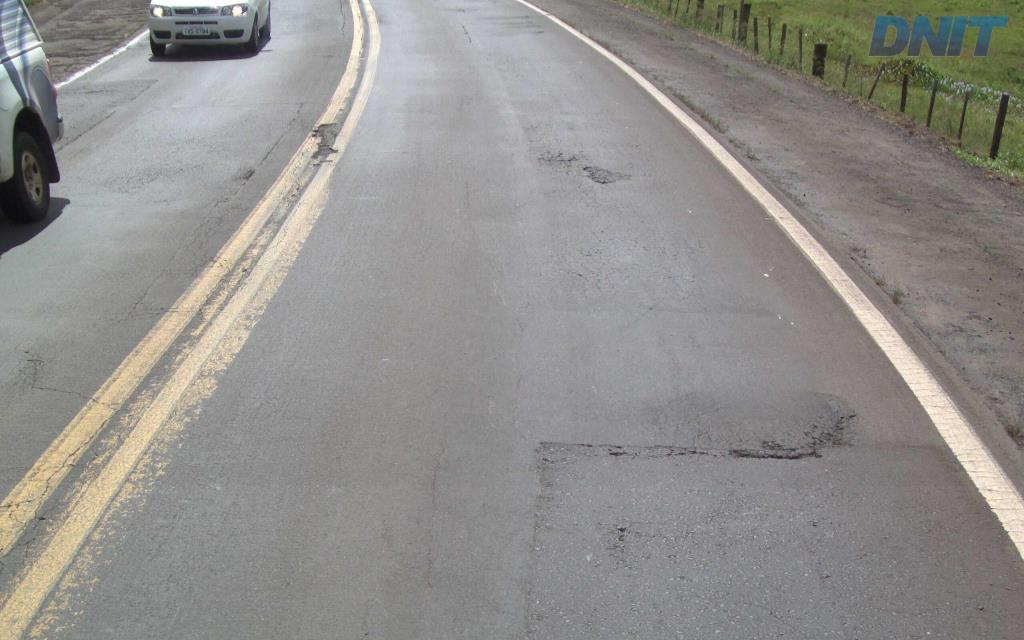crack: (719, 414, 856, 460), (582, 165, 616, 184)
